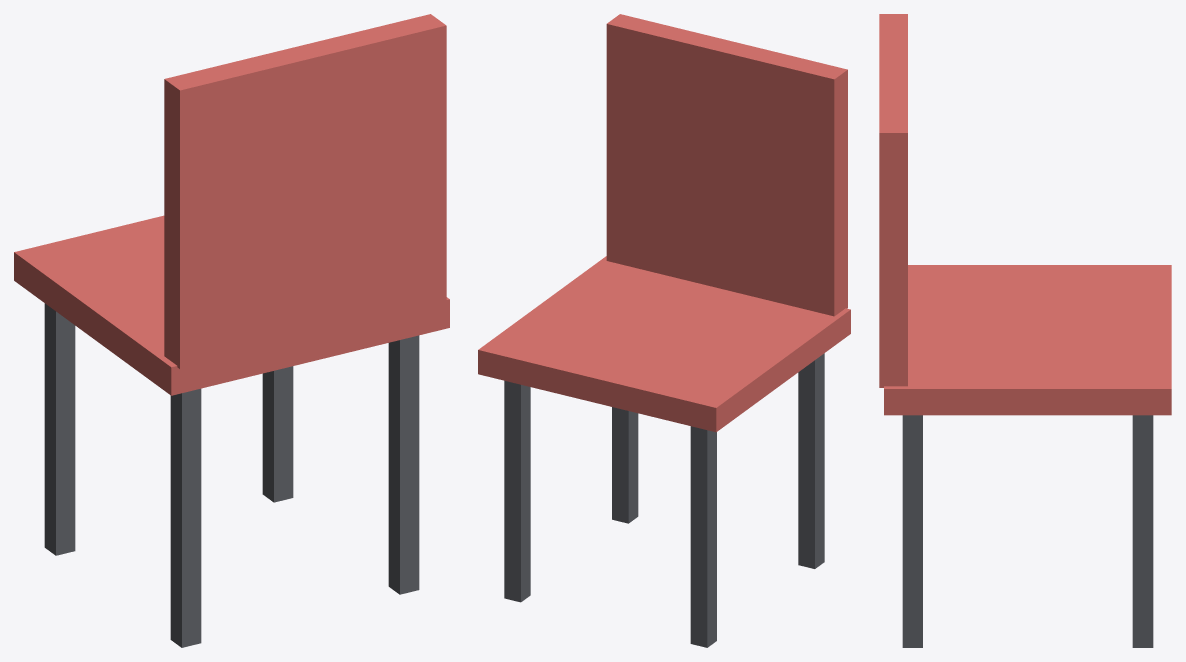
The model's file is Prop_Chair_Red.glb.
The picture shows the model from 3 angles, left to right: view 1: azimuth 30°, elevation 25°; view 2: azimuth 150°, elevation 25°; view 3: azimuth 270°, elevation 25°; orthographic projection. The views are drawn at different scales.
Visible parts, largest first — view 1: Back, Seat, L_0.18_-0.18, L_-0.18_-0.18, L_-0.18_0.18, L_0.18_0.18; view 2: Back, Seat, L_-0.18_0.18, L_0.18_0.18, L_-0.18_-0.18, L_0.18_-0.18; view 3: Seat, Back, L_0.18_0.18, L_0.18_-0.18.
Part boxes in pixels (x1,y1,x2,y2): Back: (164,14,446,369); Seat: (14,215,449,395); L_0.18_-0.18: (388,335,419,594); L_-0.18_-0.18: (170,388,201,647); L_-0.18_0.18: (44,303,75,555); L_0.18_0.18: (262,366,293,502); Back: (606,14,847,316); Seat: (478,256,850,432); L_-0.18_0.18: (690,426,716,647); L_0.18_0.18: (504,380,530,602); L_-0.18_-0.18: (798,353,824,568); L_0.18_-0.18: (612,407,638,523); Seat: (884,265,1171,415); Back: (879,14,907,387); L_0.18_0.18: (1132,415,1153,647); L_0.18_-0.18: (902,415,922,647).
Bounding box in the file's own units: 0.46 × 0.9 × 0.4575.
